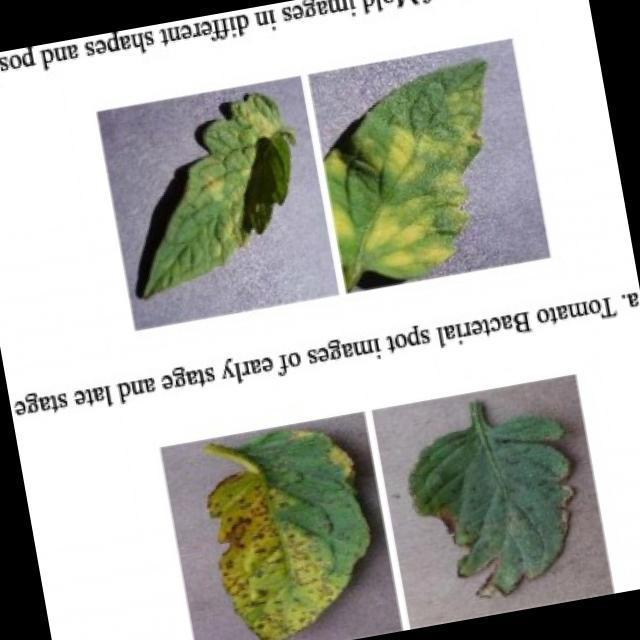Bacterial Spot: (196, 418, 387, 640), (400, 400, 592, 604)
Mosaic Virus: (316, 60, 522, 288)
